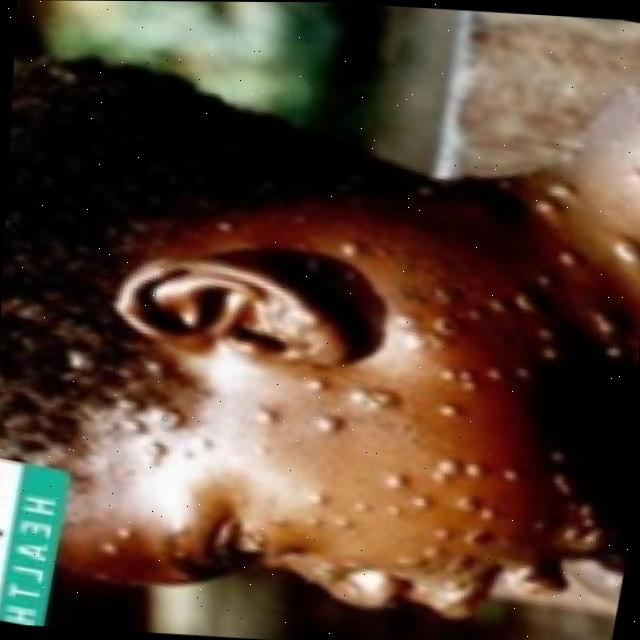Eczema: (97, 162, 640, 599)
